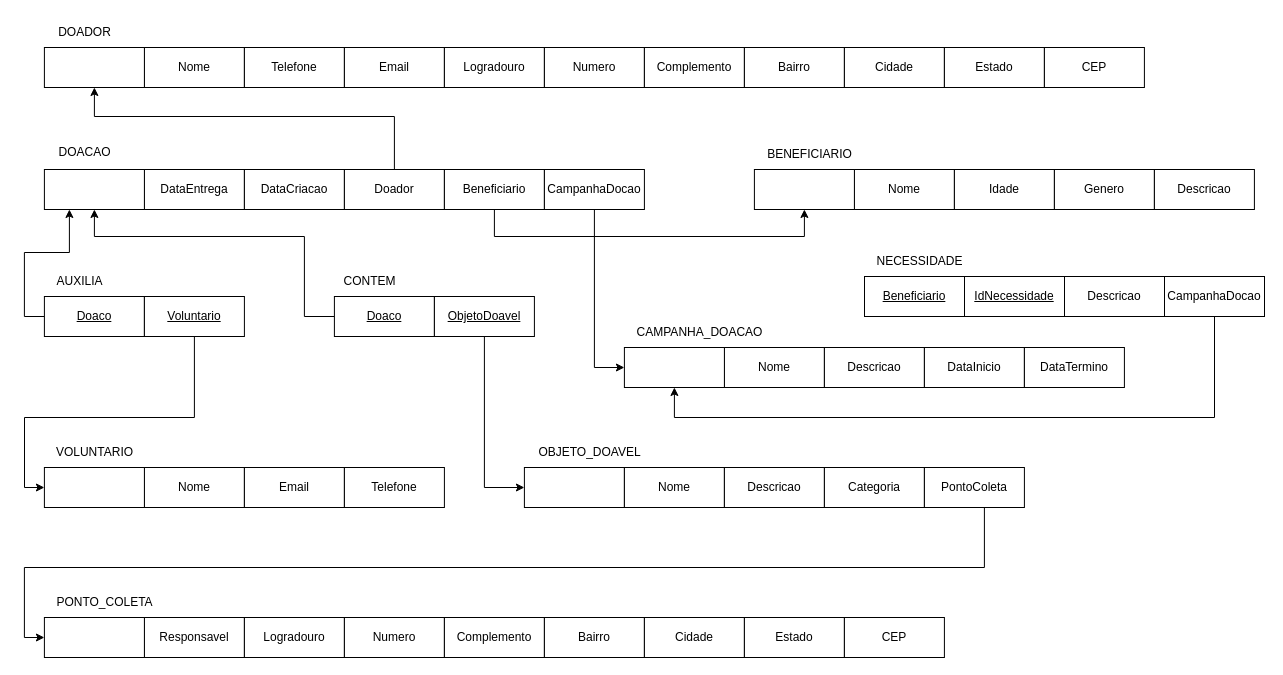
This 1283x675 diagram has some shape labels left out. The centre of each missing label's shape, as x and y in pixels:
IdBeneficiario: the point at 803,189
IdCampanha: the point at 673,367
IdDoacao: the point at 93,189
IdDoador: the point at 93,67
IdObjetoDoavel: the point at 573,487
IdPonto: the point at 93,637
IdVoluntario: the point at 93,487
